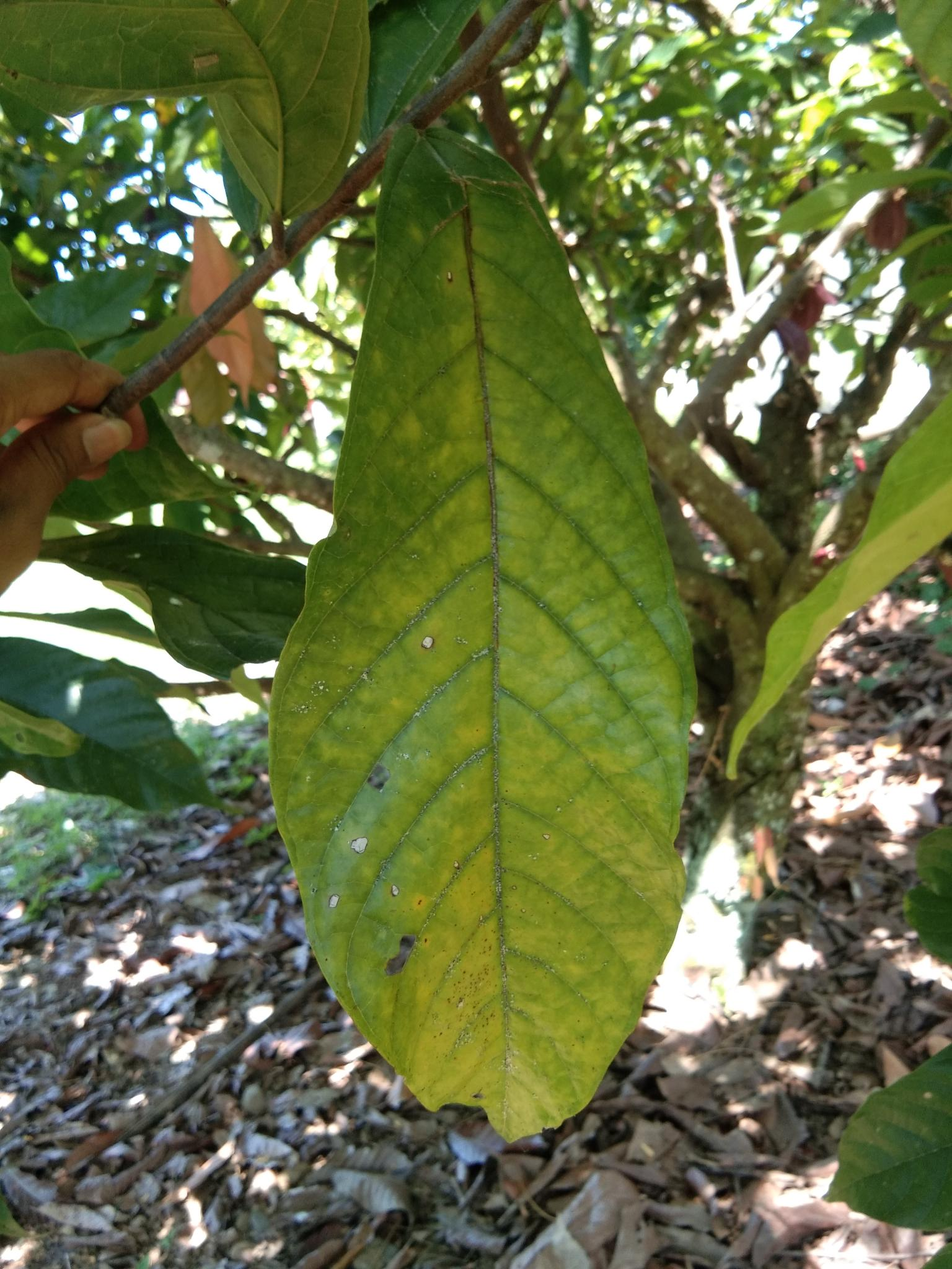Fosforo: (248, 105, 738, 1145)
